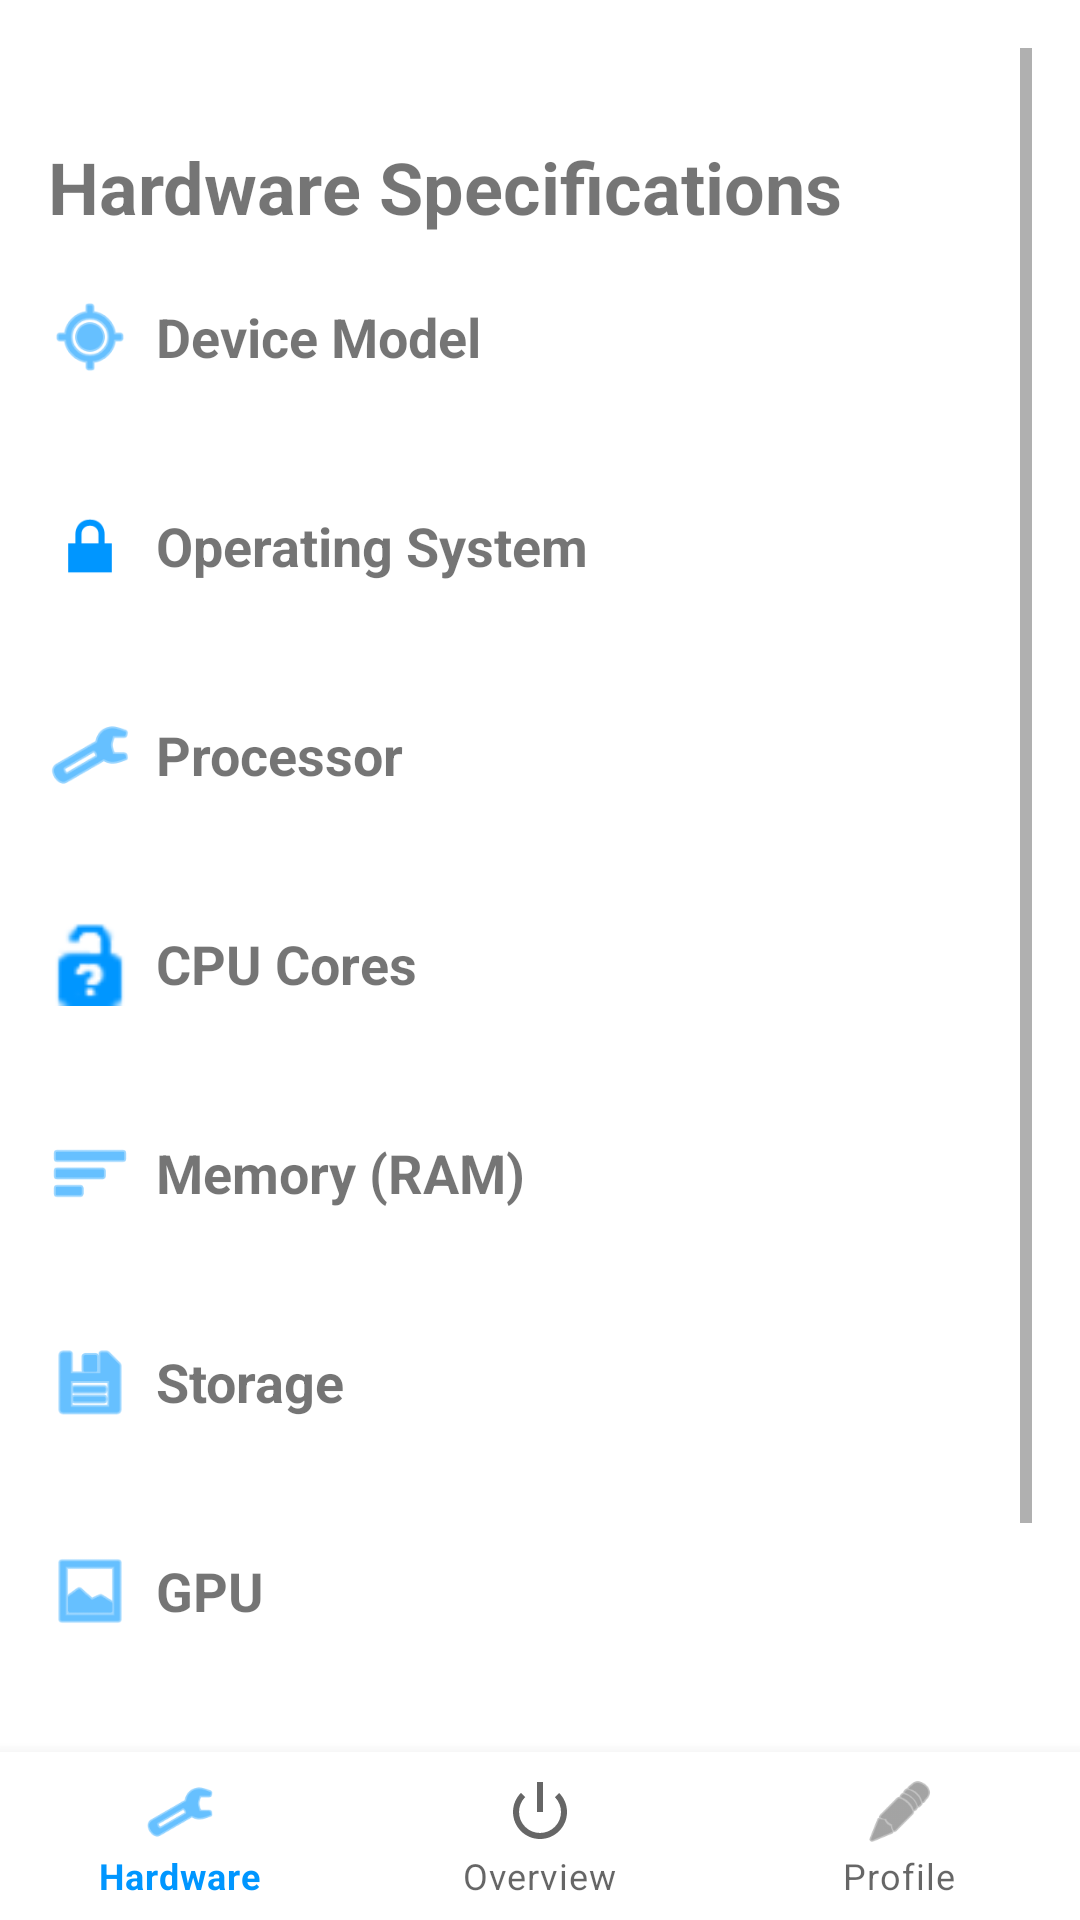

Icons on this 1080px x 1920px Android screen, each with the point to tap as (x,y):
gallery: (90,1591)
lock: (90,546)
manage: (90,755)
mylocation: (90,337)
partial secure: (90,965)
save: (90,1382)
sort by size: (90,1173)
